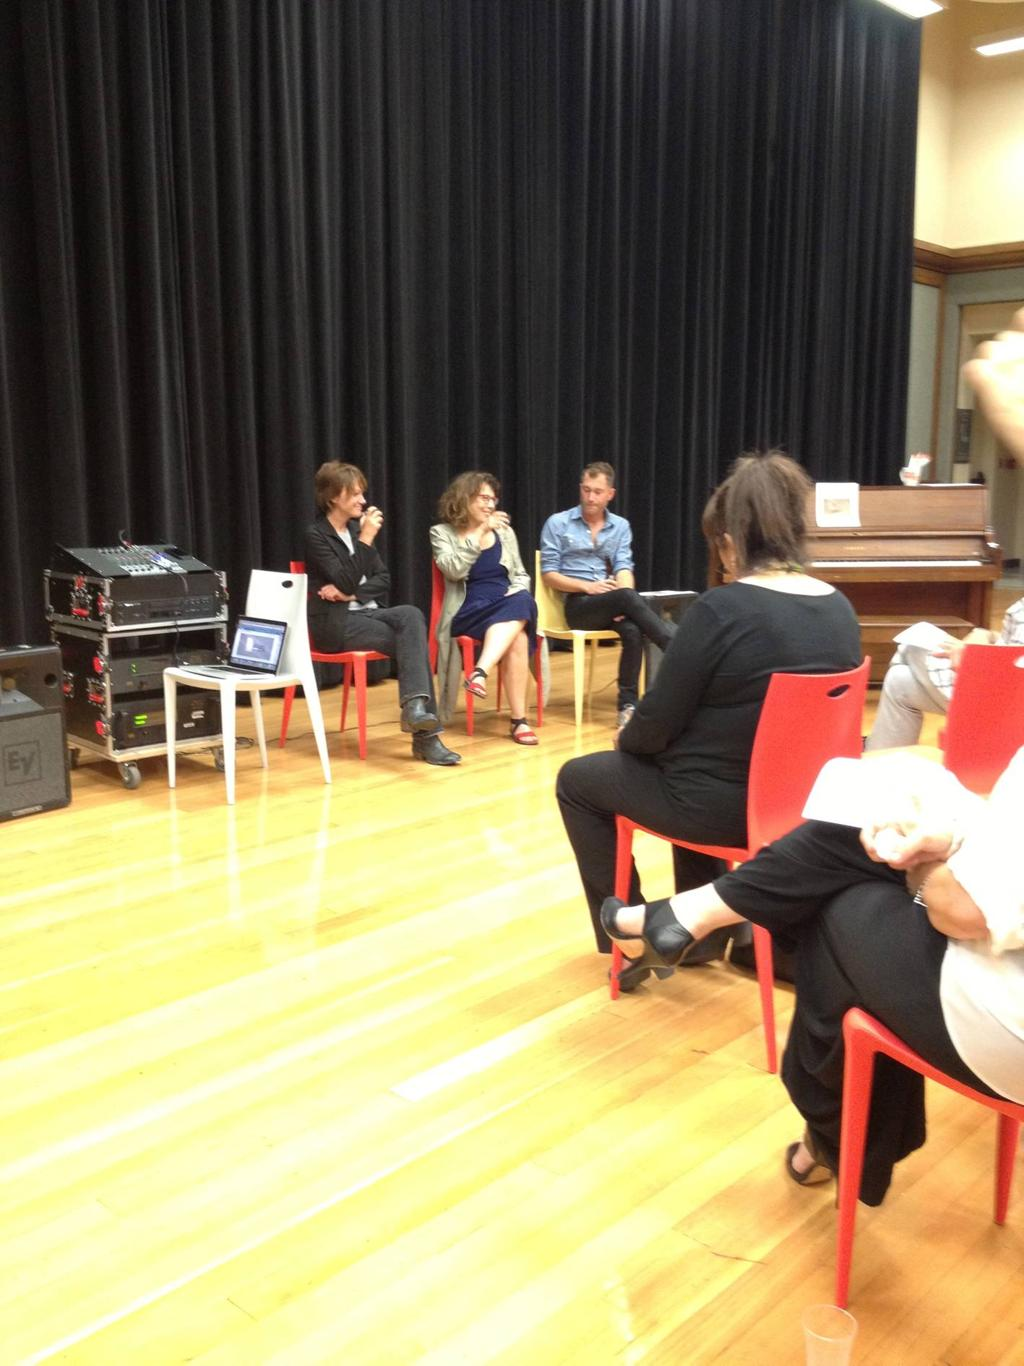face: (466, 480, 495, 523), (337, 478, 367, 518), (582, 470, 607, 517)
